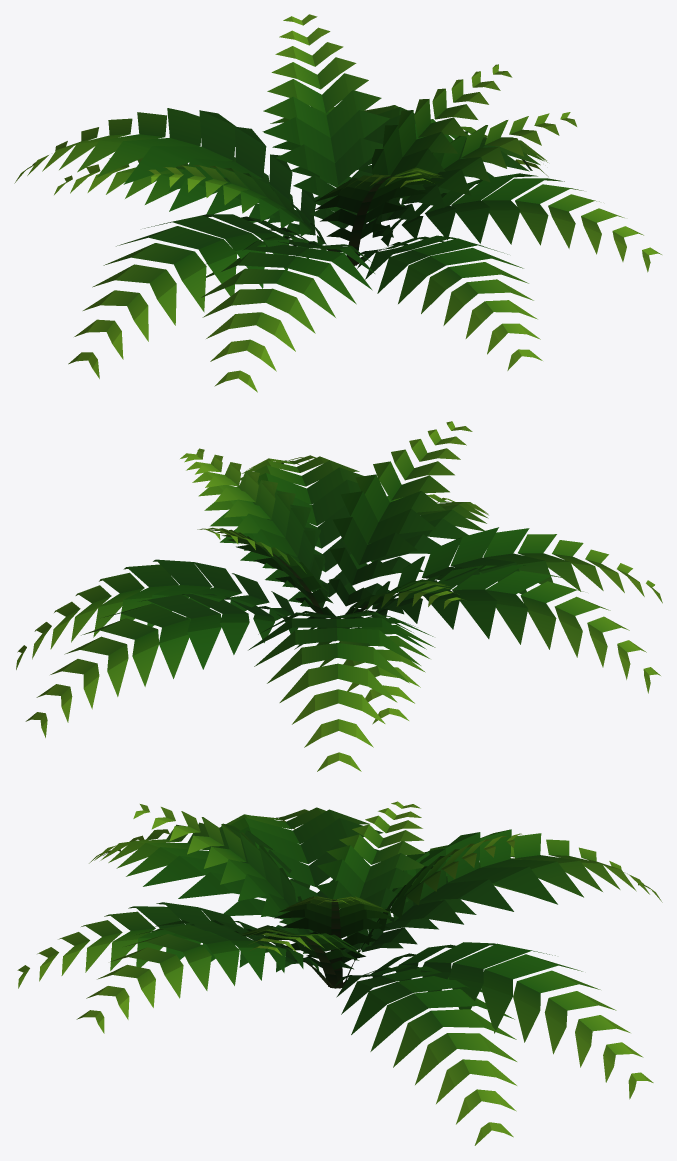
Rendered from sword-fern-a.glb.
3 views of the same model, one above another, from view 1: azimuth 30°, elevation 25°; view 2: azimuth 150°, elevation 25°; view 3: azimuth 270°, elevation 25° (orthographic). The views are drawn at different scales.
Visible parts, largest first — view 1: sword_fern_a; view 2: sword_fern_a; view 3: sword_fern_a.
Boxes of the visible parts, left/top/right/bottom form: sword_fern_a: left=14, top=14, right=661, bottom=392; sword_fern_a: left=16, top=421, right=662, bottom=771; sword_fern_a: left=17, top=801, right=662, bottom=1145.
Size of the model in its own units: 1.83 by 0.6113 by 1.8.
